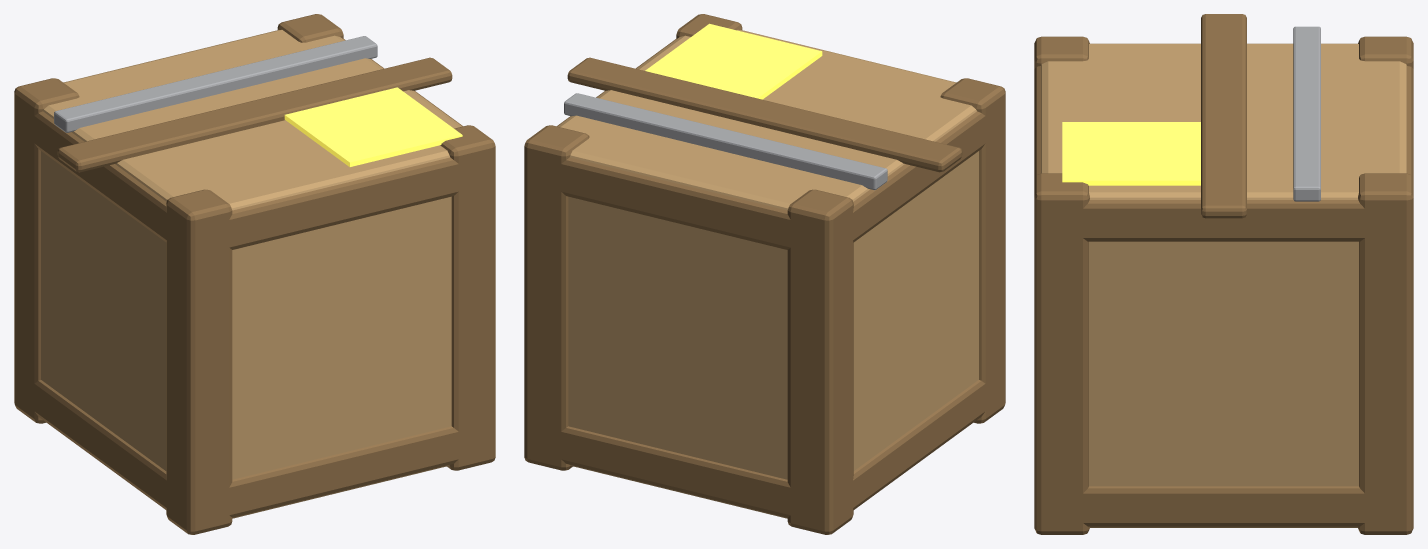
Rendered from crate.glb.
3 renders of one model, left to right at view 1: azimuth 30°, elevation 25°; view 2: azimuth 150°, elevation 25°; view 3: azimuth 270°, elevation 25°, orthographic. The views are drawn at different scales.
Parts seen in each view (by area): view 1: Core, Post-1-1, Post1-1, Railx-10.06, Railx-10.74, TopX, Post-11, Mark, Band, Raily-10.06, Raily-10.74, Post11; view 2: Core, Post-11, Post11, Railx10.74, Railx10.06, TopX, Post-1-1, Mark, Band, Raily-10.06, Raily-10.74, Post1-1; view 3: Core, Post11, Post1-1, Raily10.06, Raily10.74, TopX, Mark, Band, Railx-10.74, Railx10.74, Post-1-1, Post-11 (+2 smaller).
Part boxes in pixels (x1,y1,x2,y2): Core: [41, 29, 462, 518]; Post-1-1: [166, 189, 232, 534]; Post1-1: [440, 125, 495, 470]; Railx-10.06: [188, 422, 495, 523]; Railx-10.74: [176, 154, 495, 255]; TopX: [57, 57, 452, 172]; Post-11: [14, 78, 79, 423]; Mark: [284, 87, 462, 166]; Band: [54, 36, 377, 132]; Raily-10.06: [14, 369, 217, 523]; Raily-10.74: [14, 100, 219, 255]; Post11: [277, 14, 343, 42]; Core: [557, 29, 978, 518]; Post-11: [787, 189, 853, 534]; Post11: [524, 125, 589, 470]; Railx10.74: [524, 154, 844, 255]; Railx10.06: [524, 422, 844, 523]; TopX: [567, 57, 962, 172]; Post-1-1: [940, 78, 1005, 423]; Mark: [645, 23, 822, 99]; Band: [564, 93, 887, 190]; Raily-10.06: [800, 368, 1005, 523]; Raily-10.74: [798, 100, 1005, 253]; Post1-1: [676, 14, 742, 38]; Core: [1041, 43, 1406, 527]; Post11: [1358, 173, 1413, 534]; Post1-1: [1034, 173, 1089, 534]; Raily10.06: [1036, 486, 1410, 526]; Raily10.74: [1034, 200, 1413, 241]; TopX: [1201, 14, 1246, 218]; Mark: [1062, 122, 1200, 185]; Band: [1293, 26, 1320, 201]; Railx-10.74: [1034, 66, 1073, 237]; Railx10.74: [1374, 66, 1413, 237]; Post-1-1: [1034, 36, 1089, 68]; Post-11: [1358, 36, 1413, 68].
Bounding box in the file's own units: 1 × 0.8375 × 0.82.
